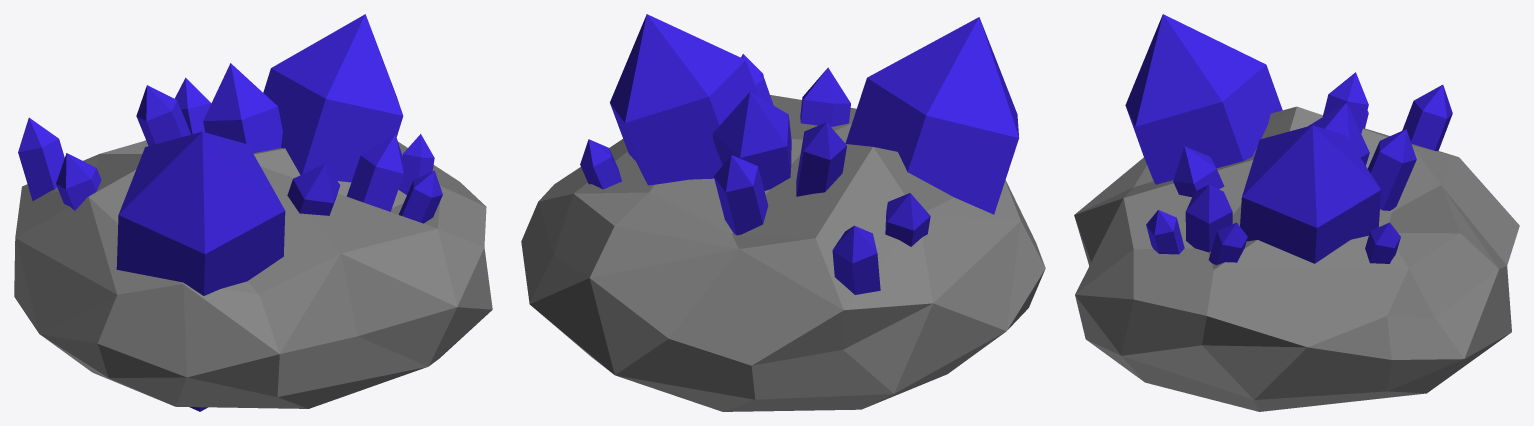
File: Caillasse3.fbx
3 views of the same model, side by side, from view 1: azimuth 30°, elevation 25°; view 2: azimuth 150°, elevation 25°; view 3: azimuth 270°, elevation 25° (orthographic). The views are drawn at different scales.
Visible parts, largest first — view 1: Cube.002, Cylinder.018, Cylinder.022, Cylinder.016, Cylinder.020, Cylinder.025, Cylinder.014, Cylinder.023, Cylinder.024, Cylinder.019, Cylinder.013, Cylinder.017; view 2: Cube.002, Cylinder.018, Cylinder.022, Cylinder.016, Cylinder.013, Cylinder.014, Cylinder.025, Cylinder.023, Cylinder.024, Cylinder.021; view 3: Cube.002, Cylinder.018, Cylinder.022, Cylinder.013, Cylinder.020, Cylinder.025, Cylinder.023, Cylinder.014, Cylinder.019, Cylinder.016, Cylinder.017, Cylinder.021.
Part boxes in pixels (x1,y1,x2,y2): Cube.002: [14, 140, 492, 408]; Cylinder.018: [116, 131, 285, 411]; Cylinder.022: [263, 14, 403, 182]; Cylinder.016: [203, 63, 282, 153]; Cylinder.020: [346, 134, 405, 211]; Cylinder.025: [18, 117, 64, 200]; Cylinder.014: [136, 85, 190, 145]; Cylinder.023: [287, 163, 340, 215]; Cylinder.024: [56, 153, 101, 210]; Cylinder.019: [398, 170, 442, 223]; Cylinder.013: [174, 77, 211, 134]; Cylinder.017: [398, 134, 434, 194]; Cube.002: [521, 95, 1045, 411]; Cylinder.018: [845, 17, 1018, 214]; Cylinder.022: [610, 14, 759, 185]; Cylinder.016: [712, 92, 791, 190]; Cylinder.013: [714, 155, 768, 235]; Cylinder.014: [796, 122, 846, 196]; Cylinder.025: [832, 225, 880, 294]; Cylinder.023: [800, 67, 850, 126]; Cylinder.024: [885, 193, 930, 246]; Cylinder.021: [580, 139, 621, 189]; Cube.002: [1074, 106, 1519, 411]; Cylinder.018: [1125, 14, 1282, 184]; Cylinder.022: [1240, 125, 1381, 263]; Cylinder.013: [1368, 129, 1416, 210]; Cylinder.020: [1185, 185, 1232, 252]; Cylinder.025: [1402, 84, 1452, 150]; Cylinder.023: [1173, 146, 1224, 197]; Cylinder.014: [1322, 72, 1368, 133]; Cylinder.019: [1146, 210, 1184, 254]; Cylinder.016: [1308, 102, 1369, 165]; Cylinder.017: [1208, 222, 1247, 265]; Cylinder.021: [1365, 222, 1400, 263].
Size of the model in its own units: 2142 by 1497 by 2027.
